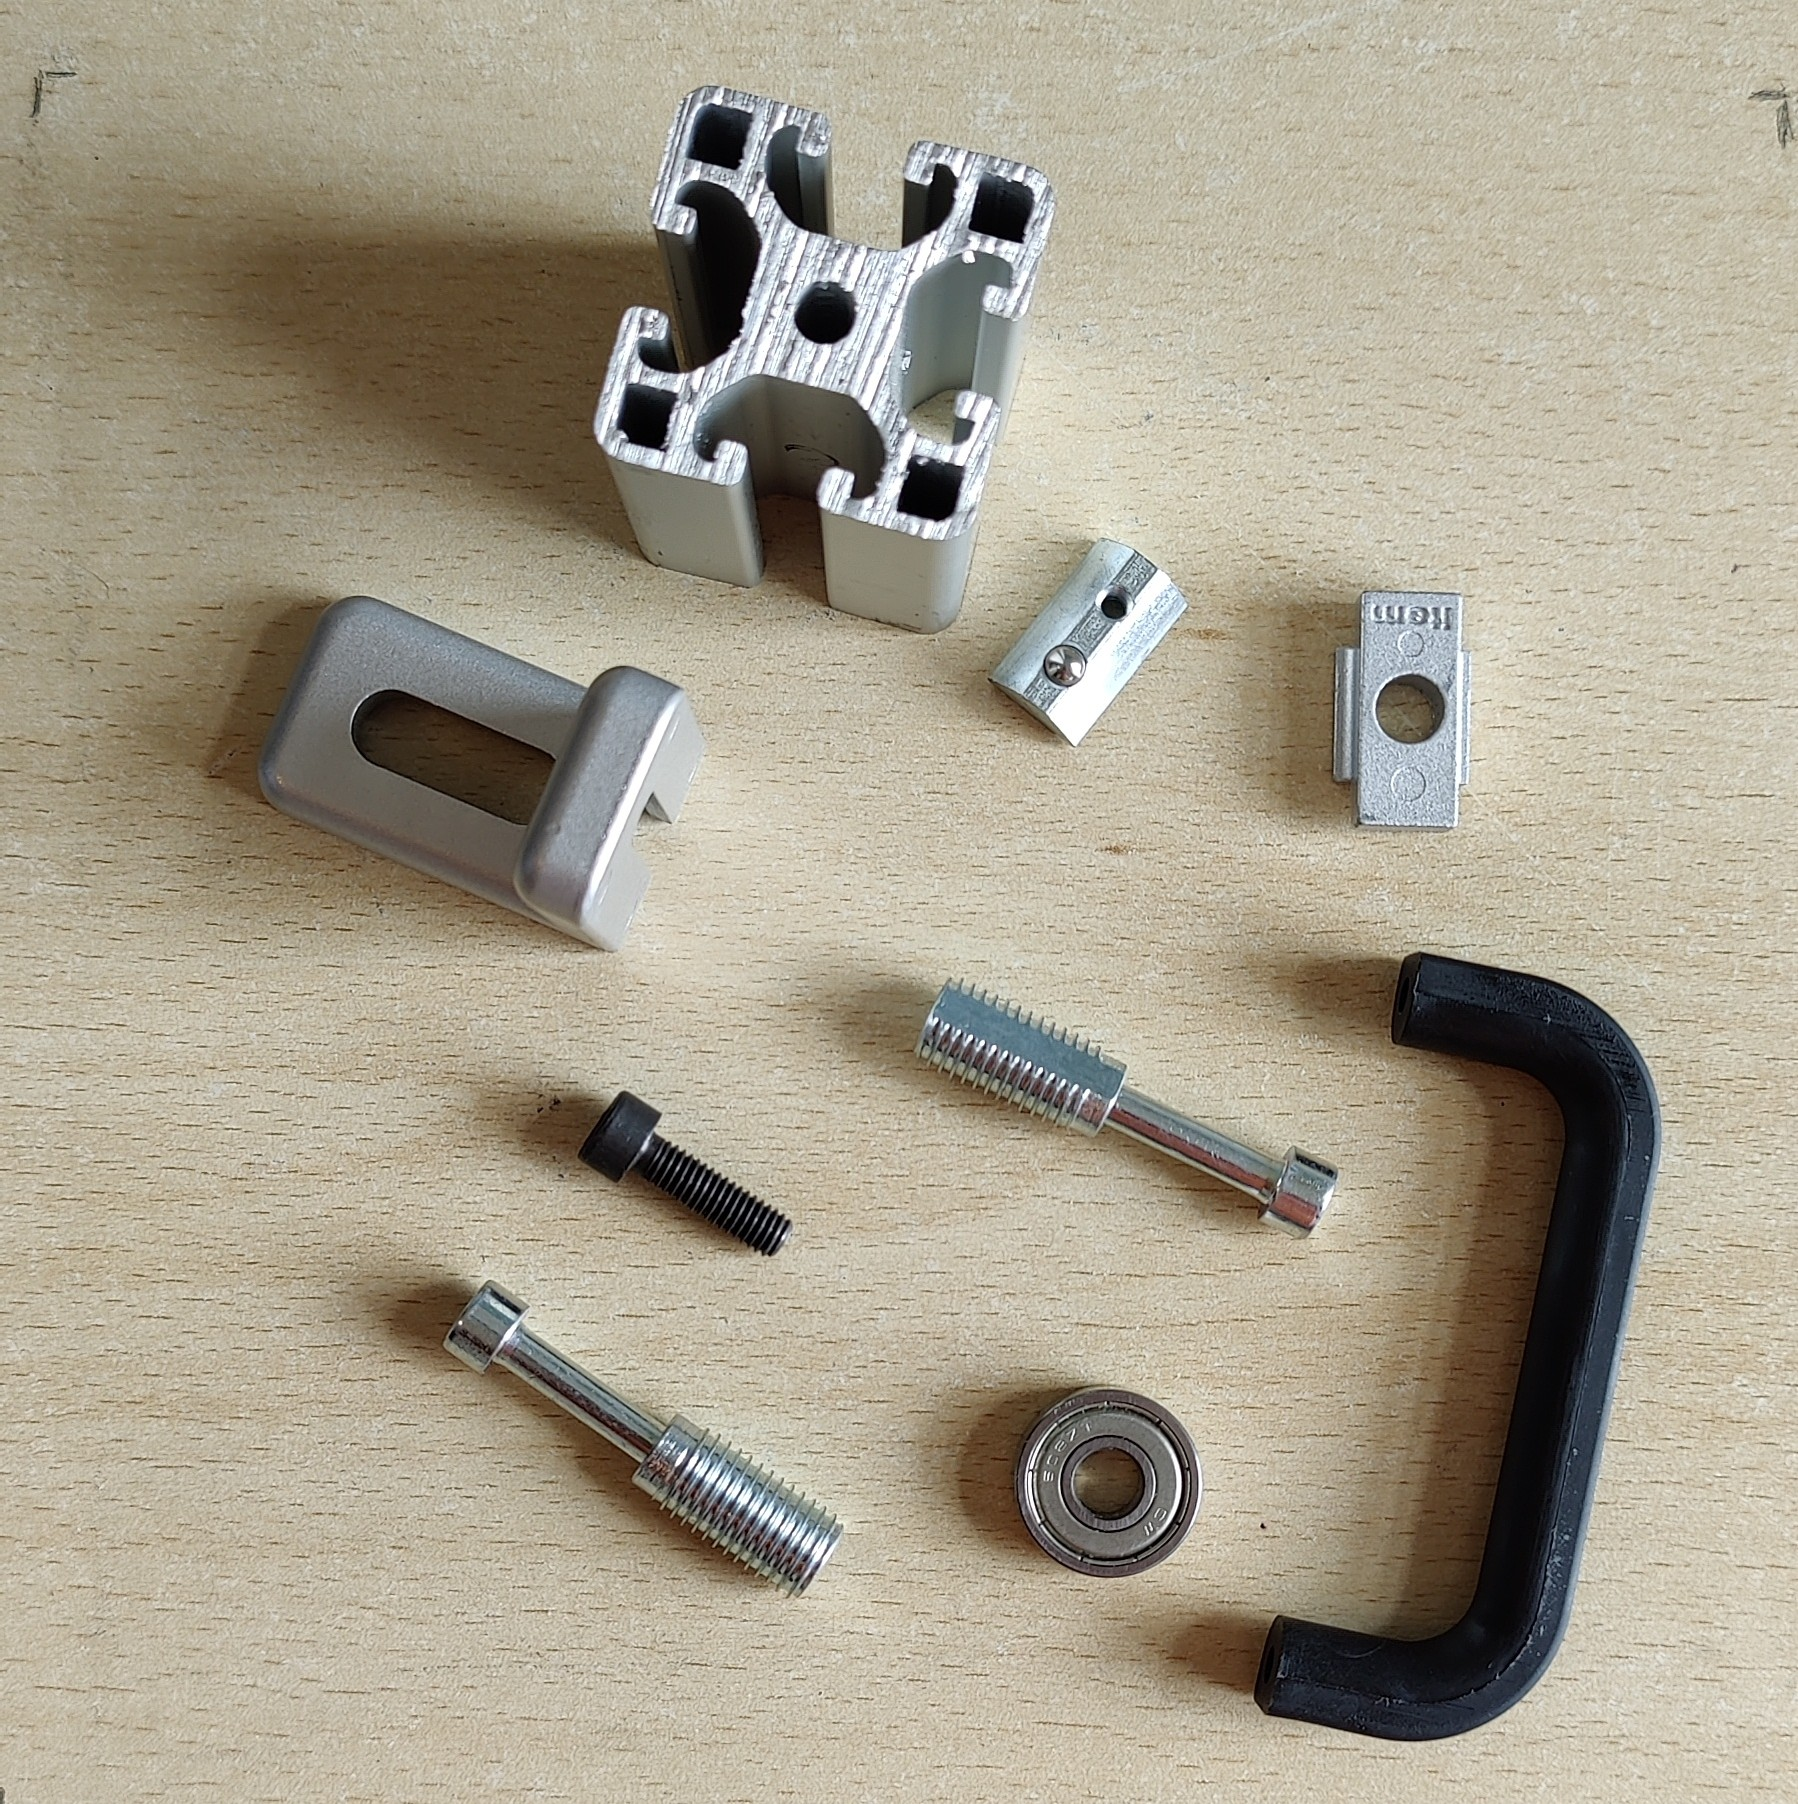Aluminium Extension: (591, 84, 1059, 637)
Ball Bearing: (1011, 1384, 1205, 1578)
Multiwinkel: (255, 589, 710, 955)
Pull Handle: (1251, 950, 1665, 1745)
Shoulder Socket Head Cap Screw: (440, 1277, 846, 1602), (909, 974, 1340, 1244)
Socket Head Cap Screw: (576, 1090, 795, 1262)
T Nut Square: (1329, 584, 1474, 838)
T Spring Nut: (986, 533, 1189, 751)
